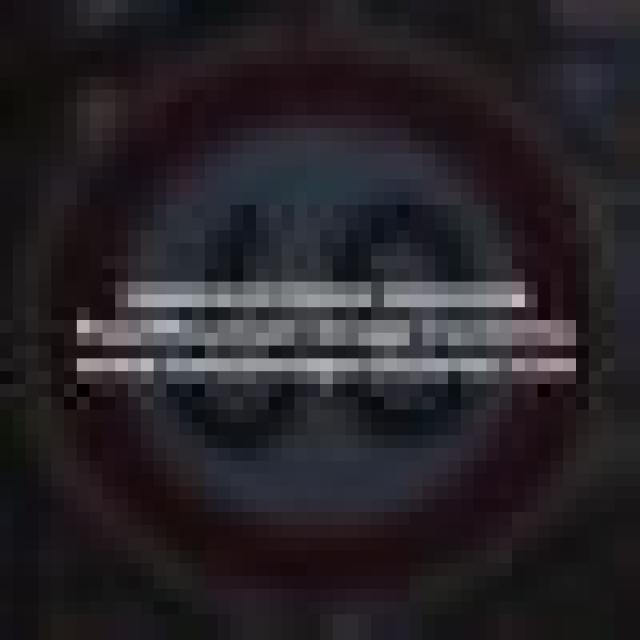speed_limit_40: (51, 51, 576, 563)
